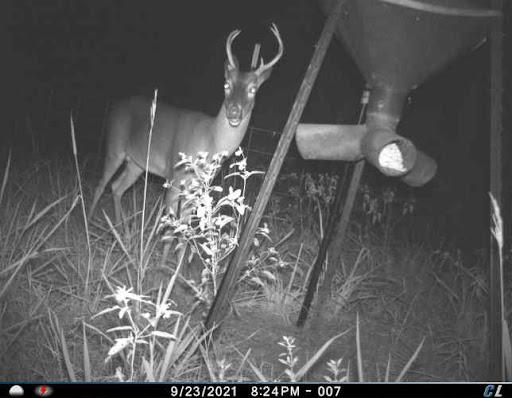Deer: (93, 22, 286, 255)
